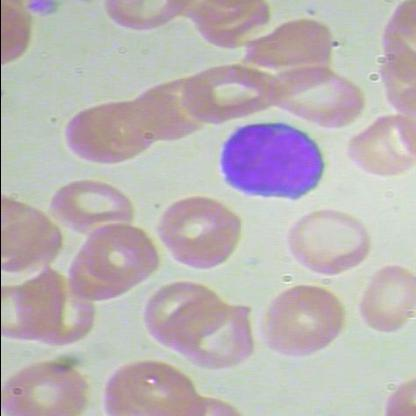Platelets: (23, 0, 62, 17)
RBC: (255, 278, 353, 362), (152, 189, 248, 274), (52, 90, 148, 175), (156, 297, 260, 370), (270, 59, 368, 133), (176, 55, 274, 129), (276, 206, 370, 278), (350, 266, 415, 354), (338, 108, 415, 182), (42, 174, 130, 238), (103, 356, 195, 415), (1, 356, 92, 415), (76, 224, 156, 289)
WBC: (214, 124, 324, 202)
